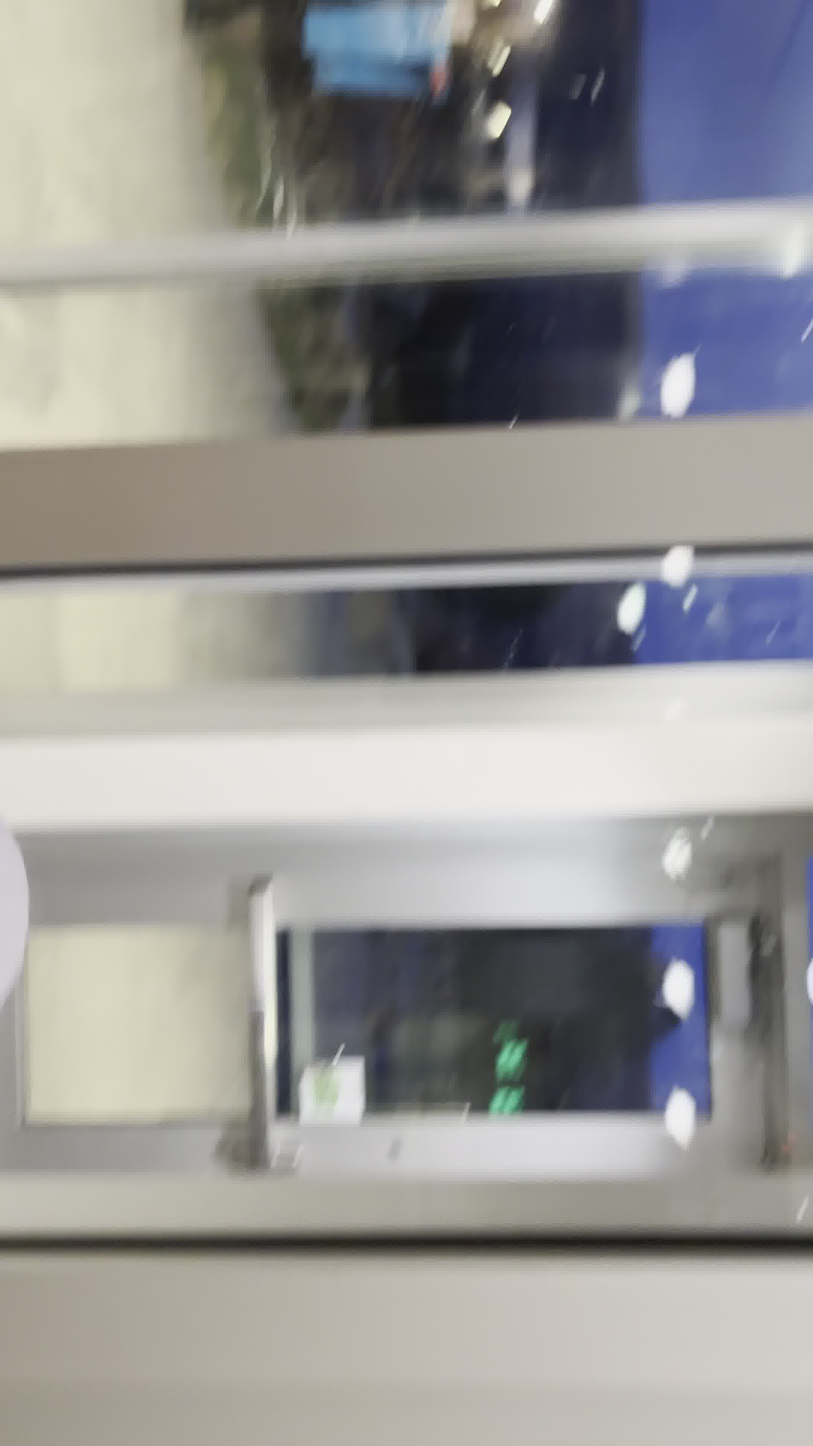Target: (0, 813, 24, 1024)
